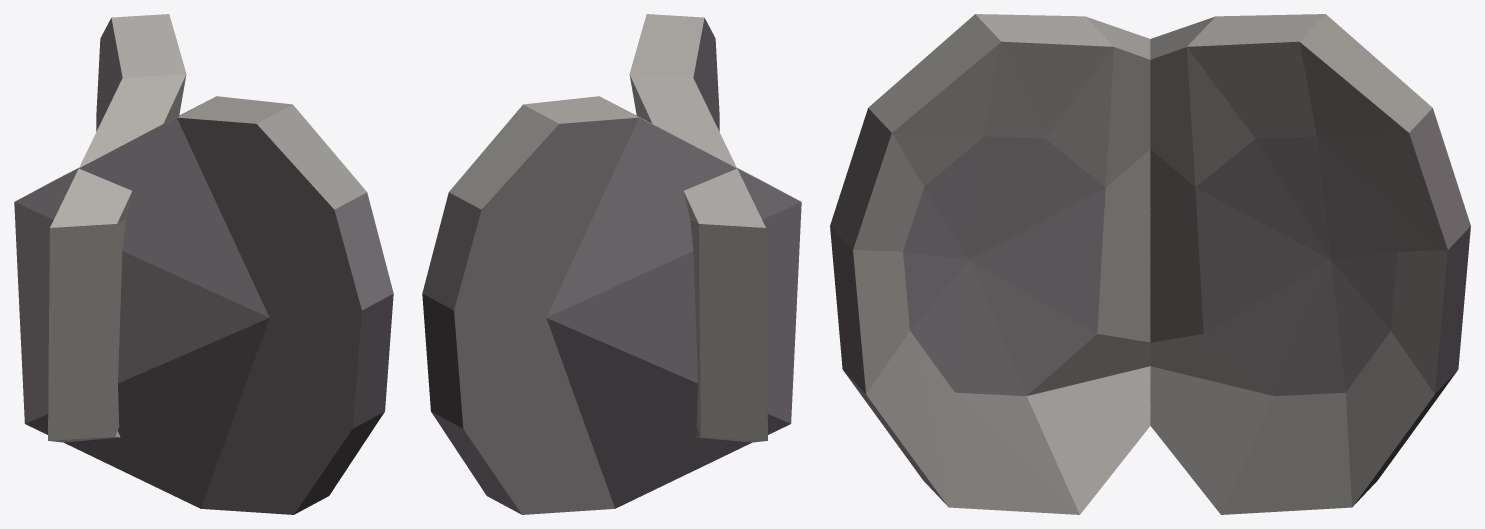
File: gl_round.glb
3 views of the same model, side by side, from view 1: azimuth 30°, elevation 25°; view 2: azimuth 150°, elevation 25°; view 3: azimuth 270°, elevation 25° (orthographic). The views are drawn at different scales.
Parts seen in each view (by area): view 1: Ear_R, Ear_L; view 2: Ear_L, Ear_R; view 3: Ear_L, Ear_R.
Boxes of the visible parts, <box> form: Ear_R: <box>14,96,393,514</box>; Ear_L: <box>48,14,186,442</box>; Ear_L: <box>422,96,801,514</box>; Ear_R: <box>629,14,767,442</box>; Ear_L: <box>1150,14,1470,514</box>; Ear_R: <box>830,14,1150,514</box>.
Bounding box in the file's own units: 0.0365 × 0.0588 × 0.0704.
Materials: 1 (1 with a texture image).
